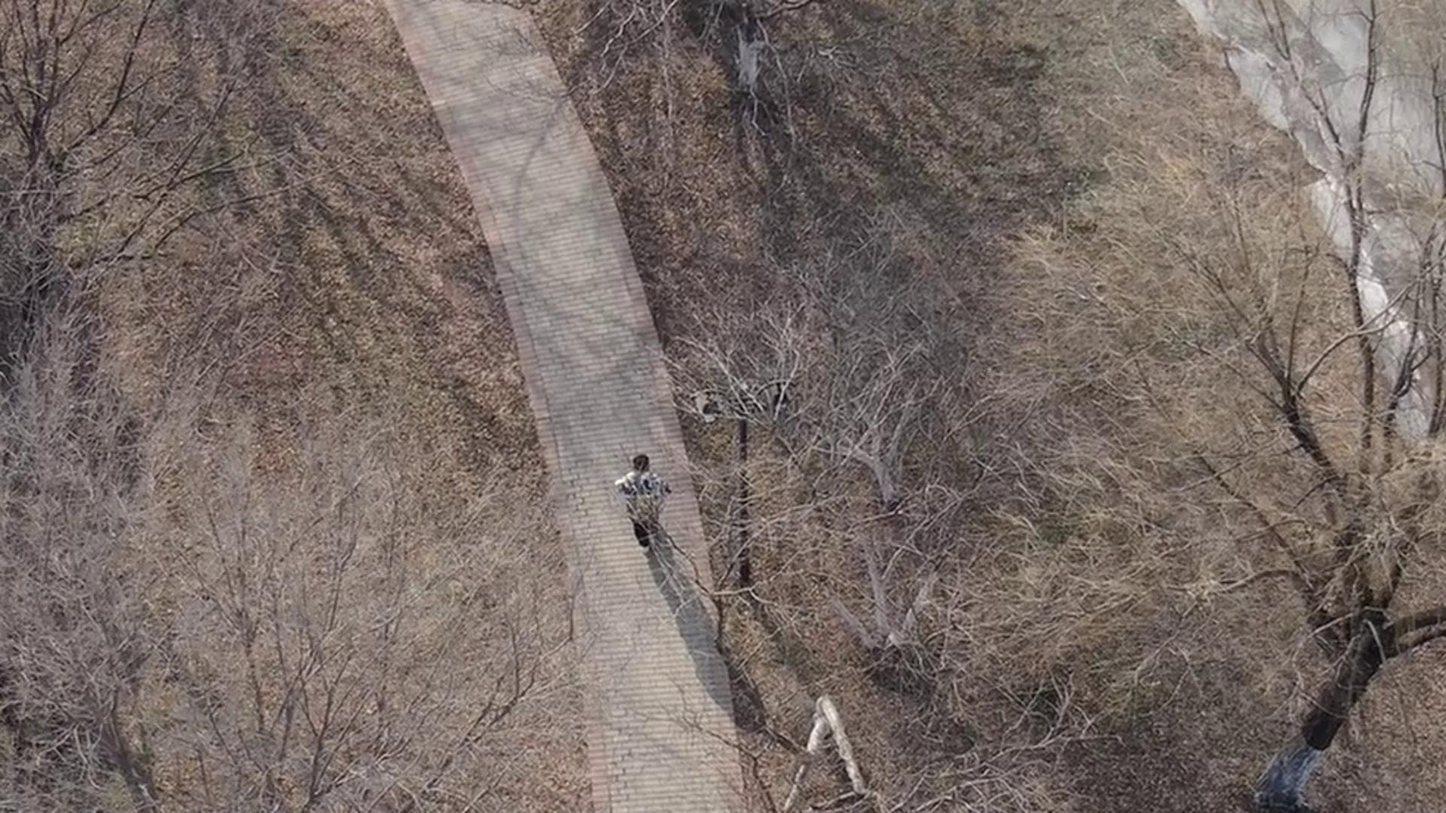human: (581, 451, 629, 547)
